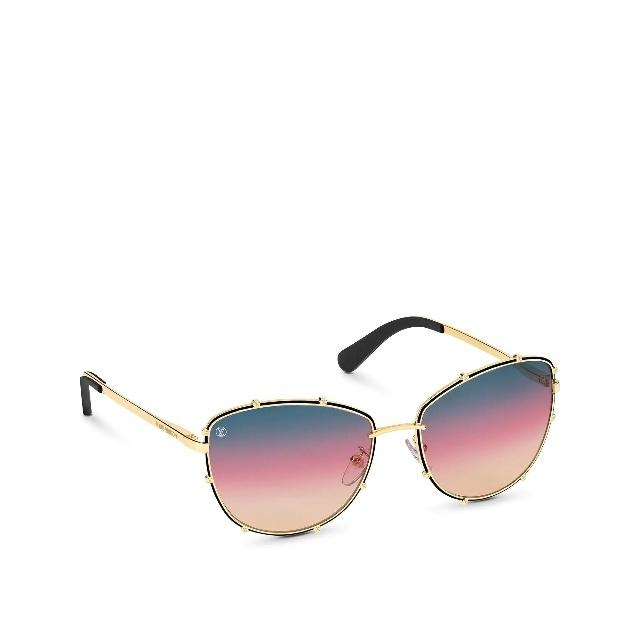Sunglasses: (69, 285, 583, 567)
